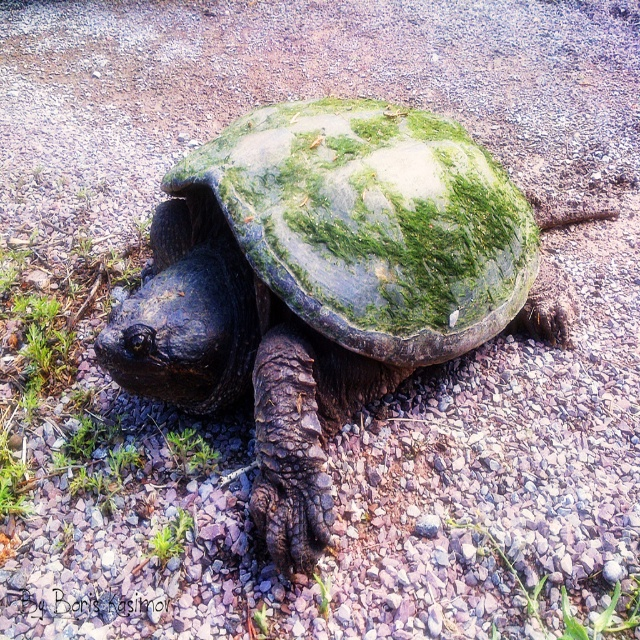Sea turtle: (94, 97, 620, 574)
